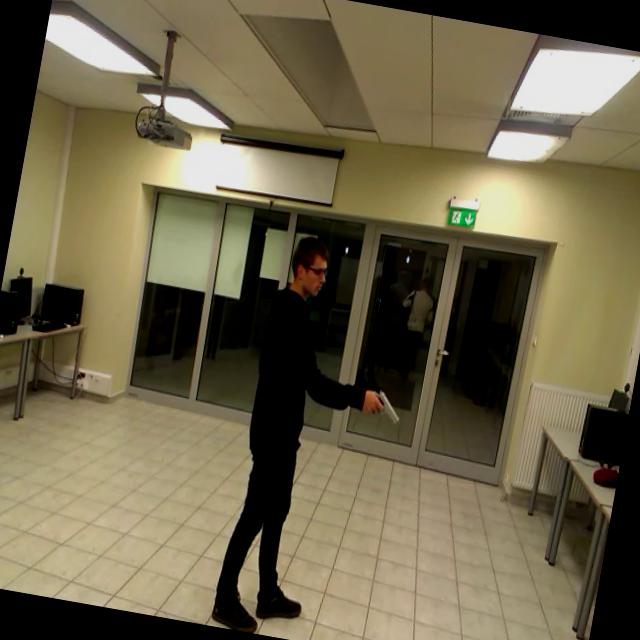handgun: (364, 372, 410, 436)
